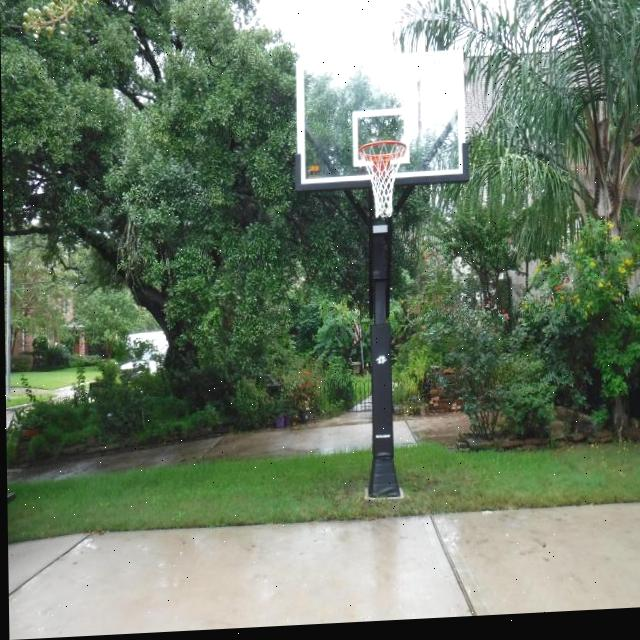hoop: (358, 140, 407, 219)
